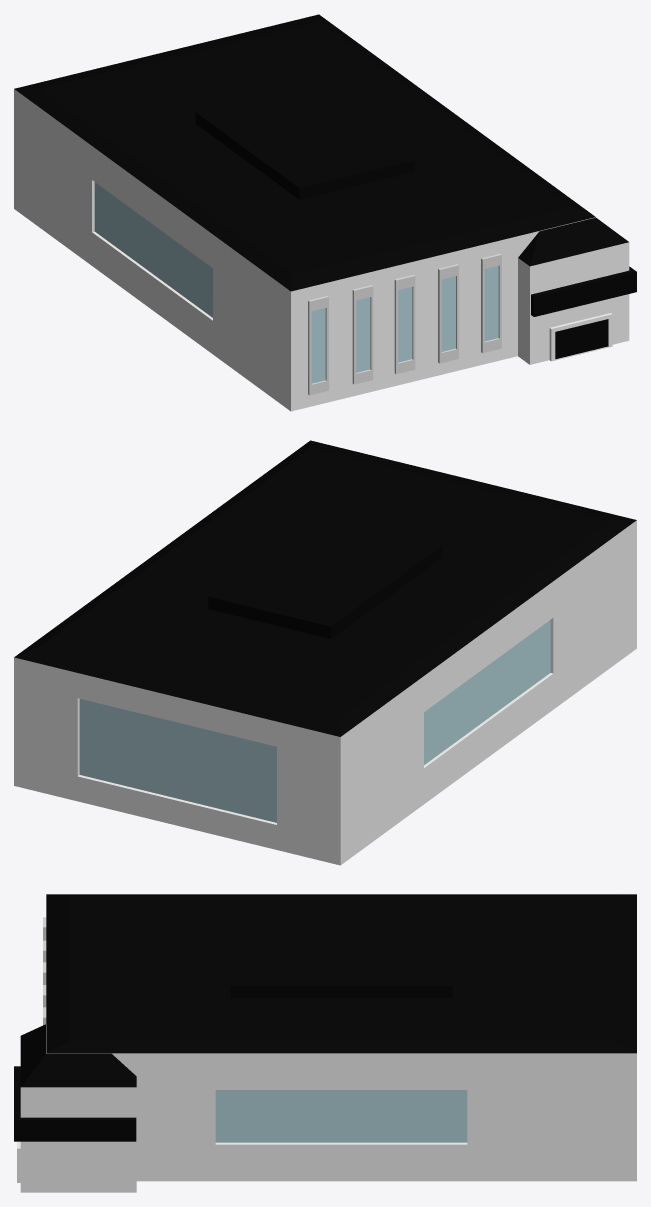
File: Factory - modern.fbx
3 views of the same model, one above another, from view 1: azimuth 30°, elevation 25°; view 2: azimuth 150°, elevation 25°; view 3: azimuth 270°, elevation 25° (orthographic). The views are drawn at different scales.
Visible parts, largest first — view 1: Cube, Cube.008, Cube.001, Cube.002, Cube.003; view 2: Cube; view 3: Cube, Cube.001, Cube.002, Cube.008.
Part boxes in pixels (bbox=[...]): Cube: bbox=[14, 14, 595, 411]; Cube.008: bbox=[308, 253, 501, 395]; Cube.001: bbox=[518, 217, 629, 364]; Cube.002: bbox=[531, 266, 636, 316]; Cube.003: bbox=[549, 313, 612, 361]; Cube: bbox=[14, 440, 636, 865]; Cube: bbox=[46, 894, 636, 1181]; Cube.001: bbox=[20, 1024, 136, 1192]; Cube.002: bbox=[14, 1066, 136, 1141]; Cube.008: bbox=[43, 917, 46, 1025].
Size of the model in its own units: 3420 by 1350 by 5227.
